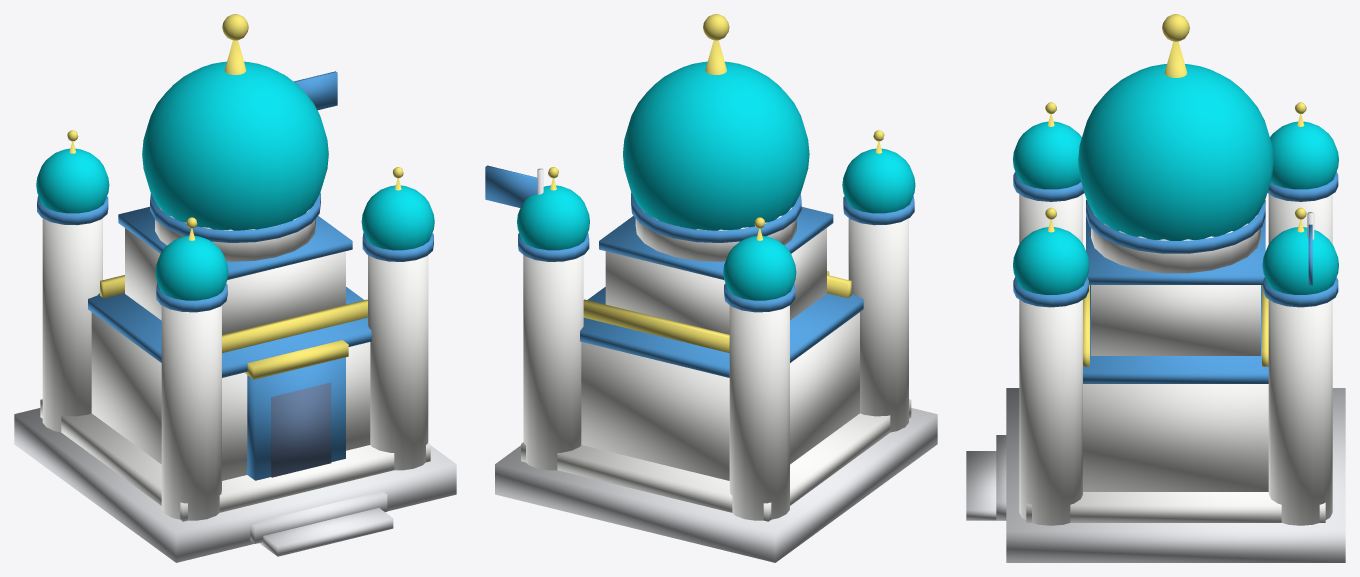
Rendered from castle_tashkent.fbx.
The picture shows the model from 3 angles, left to right: view 1: azimuth 30°, elevation 25°; view 2: azimuth 150°, elevation 25°; view 3: azimuth 270°, elevation 25°; orthographic projection. The views are drawn at different scales.
Parts seen in each view (by area): view 1: QuayBase; view 2: QuayBase; view 3: QuayBase.
Part boxes in pixels (bbox=[...]): QuayBase: bbox=[14, 14, 456, 562]; QuayBase: bbox=[485, 14, 937, 562]; QuayBase: bbox=[966, 14, 1345, 562].
Bounding box in the file's own units: 3.7 × 5.26 × 3.8.
